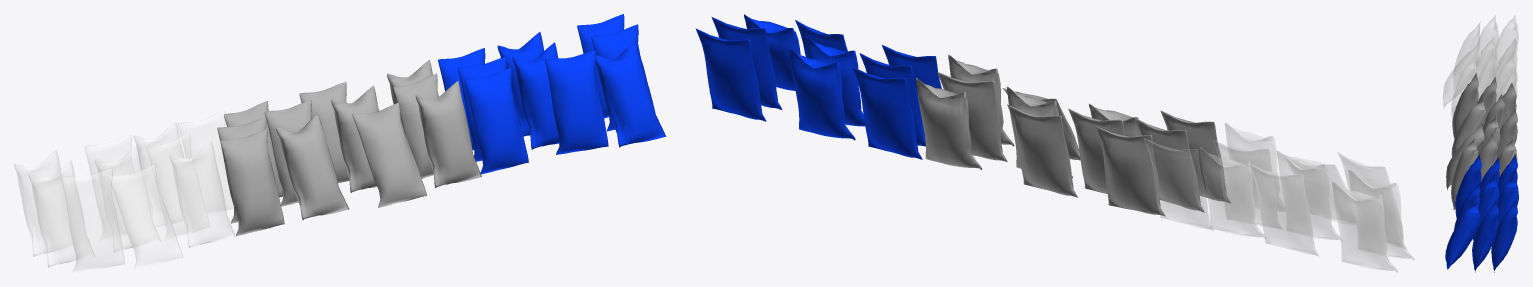
The model's file is Chips_w4tja8_Pack01.fbx.
3 renders of one model, left to right at view 1: azimuth 30°, elevation 25°; view 2: azimuth 150°, elevation 25°; view 3: azimuth 270°, elevation 25°, orthographic. The views are drawn at different scales.
Visible parts, largest first — view 1: Chips_w4tja8_Pack01; view 2: Chips_w4tja8_Pack01; view 3: Chips_w4tja8_Pack01.
Boxes of the visible parts, left/top/right/bottom form: Chips_w4tja8_Pack01: left=14, top=14, right=666, bottom=272; Chips_w4tja8_Pack01: left=695, top=14, right=1414, bottom=272; Chips_w4tja8_Pack01: left=1443, top=15, right=1518, bottom=272.
Size of the model in its own units: 196 by 26.63 by 31.13.
